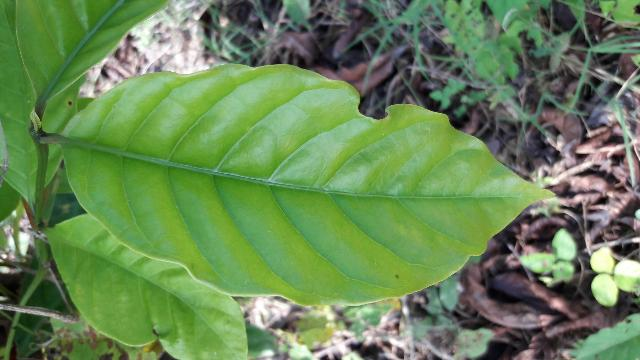healthy: (50, 64, 557, 307)
